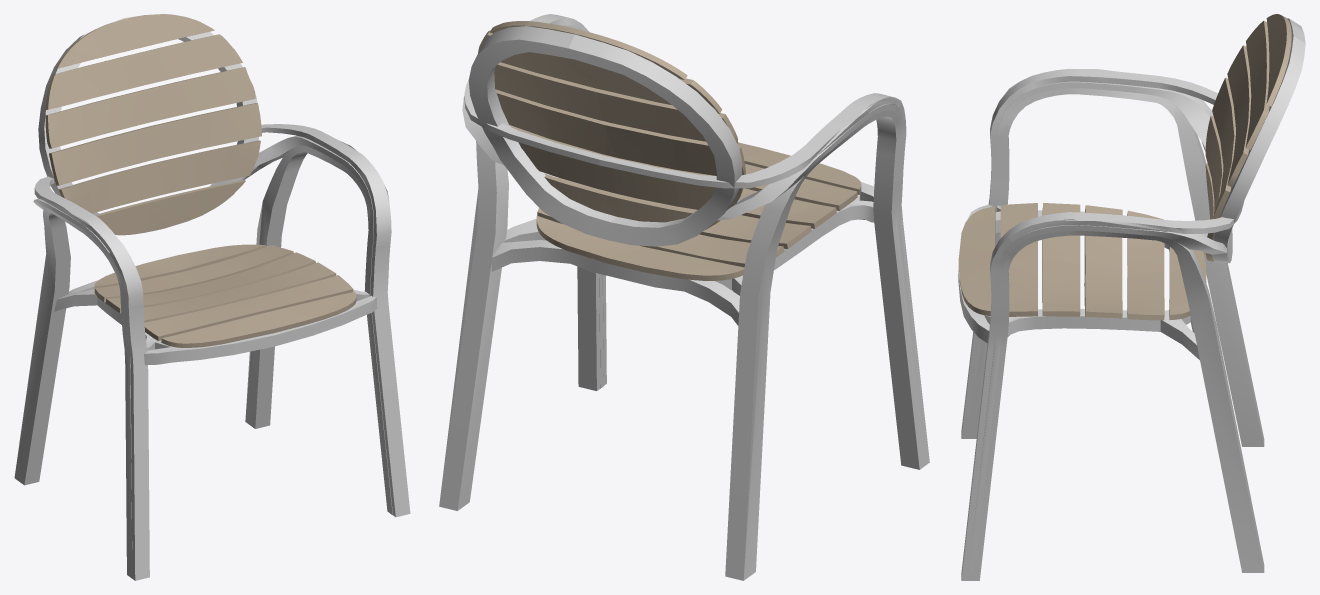
Rendered from palma-armchair-moca_t_nocolor.fbx.
The picture shows the model from 3 angles, left to right: view 1: azimuth 30°, elevation 25°; view 2: azimuth 150°, elevation 25°; view 3: azimuth 270°, elevation 25°; orthographic projection. The views are drawn at different scales.
Visible parts, largest first — view 1: palma-armchair.002_palma-armchair.004, ericachair.001, ericachair.002; view 2: palma-armchair.002_palma-armchair.004, ericachair.001, ericachair.002; view 3: palma-armchair.002_palma-armchair.004, ericachair.002, ericachair.001.
Part boxes in pixels (x1,y1,x2,y2): palma-armchair.002_palma-armchair.004: [14, 14, 410, 580]; ericachair.001: [45, 14, 261, 235]; ericachair.002: [94, 244, 356, 347]; palma-armchair.002_palma-armchair.004: [439, 14, 929, 580]; ericachair.001: [478, 21, 745, 229]; ericachair.002: [536, 142, 861, 280]; palma-armchair.002_palma-armchair.004: [958, 18, 1305, 580]; ericachair.002: [958, 203, 1206, 320]; ericachair.001: [1205, 14, 1291, 261].
Bounding box in the file's own units: 58.5 × 84.71 × 56.49.
